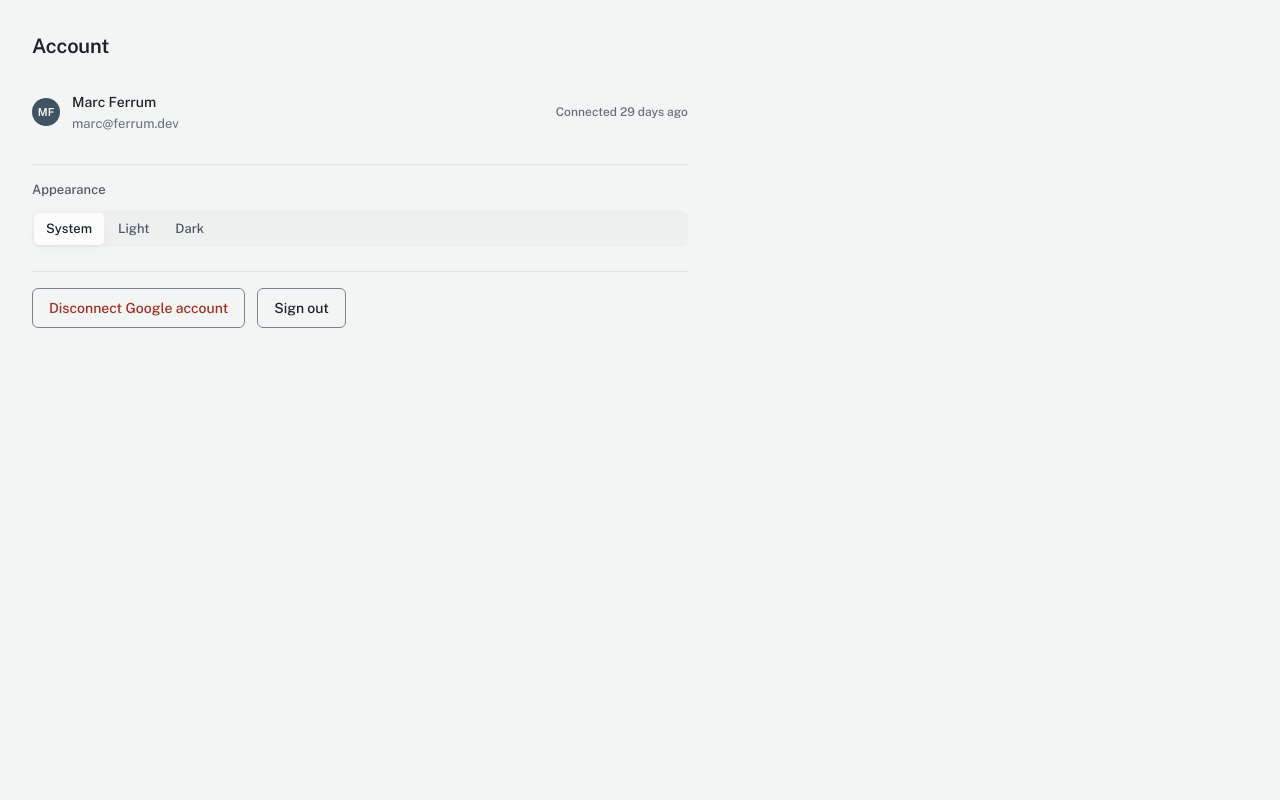
AccountSettings dialogs (§7.7) › renders the disconnect dialog copy word for word
Step 1. Click the button "Disconnect Google account" → (139, 308), box left=32, top=288, right=245, bottom=328
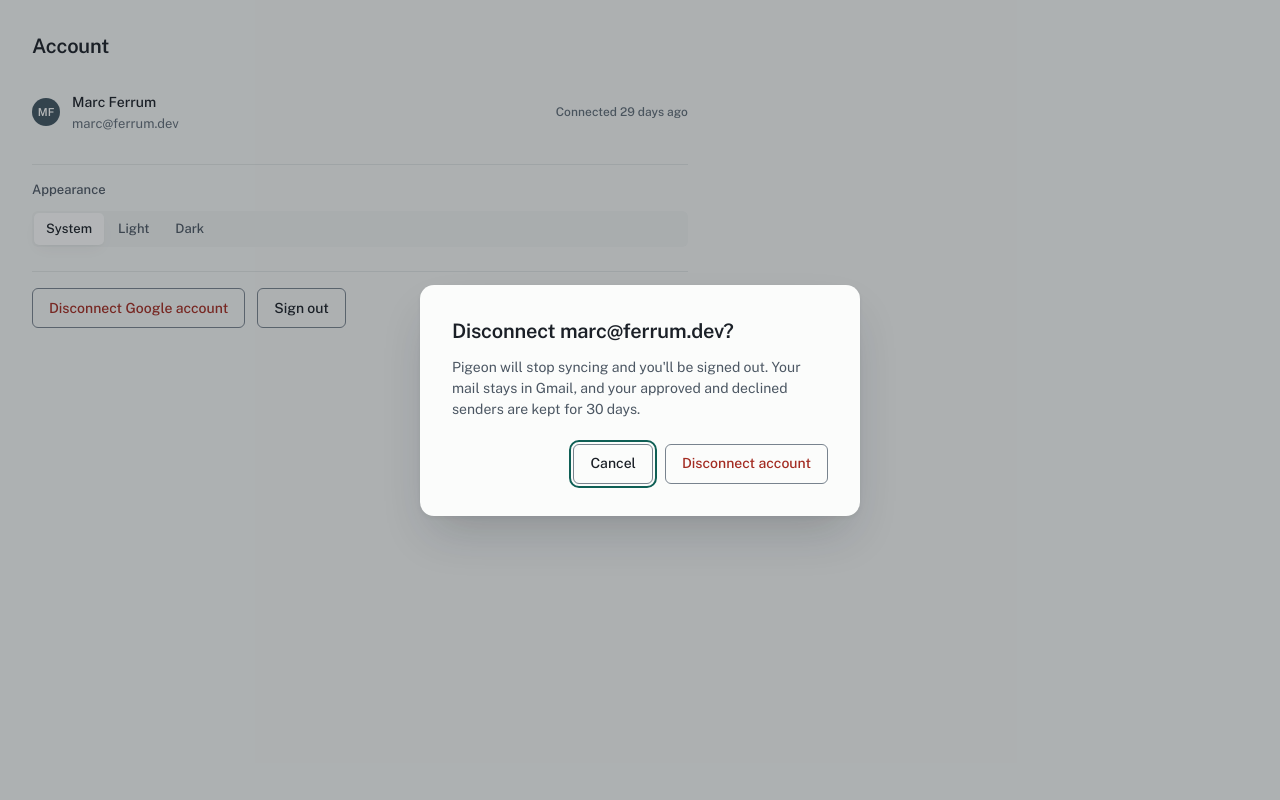
Check: the heading "Disconnect marc@ferrum.dev?" is shown, box left=452, top=318, right=734, bottom=342
Check: the text "Pigeon will stop syncing and you'll be signed out. Your mail stays in Gmail, and your approved and declined senders are " is shown, box left=452, top=358, right=801, bottom=416
Check: the button "Cancel" is shown, box left=574, top=444, right=653, bottom=484
